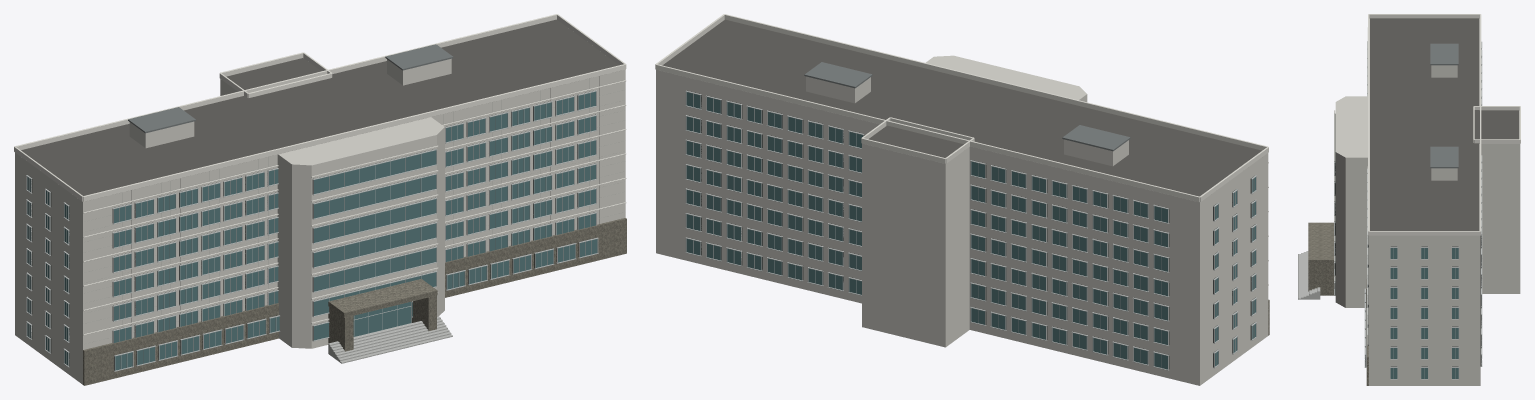
3 renders of one model, left to right at view 1: azimuth 30°, elevation 25°; view 2: azimuth 150°, elevation 25°; view 3: azimuth 270°, elevation 25°, orthographic. The views are drawn at different scales.
Parts seen in each view (by area): view 1: seven-storey-main-slab__clad, estimated-flat-roof__roof, front-seven-row-ribbon__glass, central-faceted-window-bay__clad, front-seven-row-ribbon__frame, central-wide-ribbon-glazing__glass, estimated-historical-stone-ground-course__stone, estimated-flat-roof__trim, horizontal-stone-spandrels__trim, central-wide-ribbon-glazing__frame, estimated-entry-plaza-steps__concrete, estimated-historical-entry-stone-lintel__stone (+12 smaller); view 2: seven-storey-main-slab__clad, estimated-flat-roof__roof, estimated-rear-window-grid__glass, estimated-rear-stair-core__clad, estimated-rear-window-grid__frame, estimated-flat-roof__trim, estimated-rear-window-grid__dark, central-faceted-window-bay__clad, estimated-roof-machinery__clad, estimated-roof-machinery-cap__metal, end-wall-window-slits__frame, estimated-stair-core-roof__roof (+2 smaller); view 3: estimated-flat-roof__roof, seven-storey-main-slab__clad, central-faceted-window-bay__clad, estimated-rear-stair-core__clad, estimated-flat-roof__trim, end-wall-window-slits__glass, estimated-roof-machinery-cap__metal, estimated-stair-core-roof__roof, end-wall-window-slits__frame, estimated-historical-entry-stone-lintel__stone, estimated-historical-entry-stone-piers__stone, estimated-roof-machinery__clad (+7 smaller).
Boxes of the visible parts, <box> form: seven-storey-main-slab__clad: <box>15,69,625,384</box>; estimated-flat-roof__roof: <box>21,19,618,195</box>; front-seven-row-ribbon__glass: <box>114,91,597,370</box>; central-faceted-window-bay__clad: <box>277,117,444,348</box>; front-seven-row-ribbon__frame: <box>112,90,598,371</box>; central-wide-ribbon-glazing__glass: <box>314,150,436,340</box>; estimated-historical-stone-ground-course__stone: <box>83,218,626,385</box>; estimated-flat-roof__trim: <box>14,14,626,201</box>; horizontal-stone-spandrels__trim: <box>83,80,626,335</box>; central-wide-ribbon-glazing__frame: <box>312,149,437,341</box>; estimated-entry-plaza-steps__concrete: <box>328,316,452,363</box>; estimated-historical-entry-stone-lintel__stone: <box>328,279,437,317</box>; seven-storey-main-slab__clad: <box>656,70,1268,385</box>; estimated-flat-roof__roof: <box>662,19,1261,196</box>; estimated-rear-window-grid__glass: <box>686,92,1167,369</box>; estimated-rear-stair-core__clad: <box>862,143,969,347</box>; estimated-rear-window-grid__frame: <box>685,90,1169,370</box>; estimated-flat-roof__trim: <box>655,14,1268,202</box>; estimated-rear-window-grid__dark: <box>687,91,1169,369</box>; central-faceted-window-bay__clad: <box>925,55,1087,102</box>; estimated-roof-machinery__clad: <box>806,76,1128,166</box>; estimated-roof-machinery-cap__metal: <box>804,62,1130,151</box>; end-wall-window-slits__frame: <box>1213,175,1256,368</box>; estimated-stair-core-roof__roof: <box>868,125,963,157</box>; estimated-flat-roof__roof: <box>1370,18,1479,230</box>; seven-storey-main-slab__clad: <box>1368,18,1480,385</box>; central-faceted-window-bay__clad: <box>1335,96,1367,307</box>; estimated-rear-stair-core__clad: <box>1481,111,1520,293</box>; estimated-flat-roof__trim: <box>1368,14,1481,235</box>; end-wall-window-slits__glass: <box>1390,248,1458,378</box>; estimated-roof-machinery-cap__metal: <box>1430,43,1458,168</box>; estimated-stair-core-roof__roof: <box>1475,110,1518,139</box>; end-wall-window-slits__frame: <box>1390,247,1459,379</box>; estimated-historical-entry-stone-lintel__stone: <box>1308,222,1334,263</box>; estimated-historical-entry-stone-piers__stone: <box>1308,264,1335,295</box>; estimated-roof-machinery__clad: <box>1431,65,1457,180</box>.
Size of the model in its own units: 78.51 by 27.65 by 33.84.
10 materials, 1 textured.
